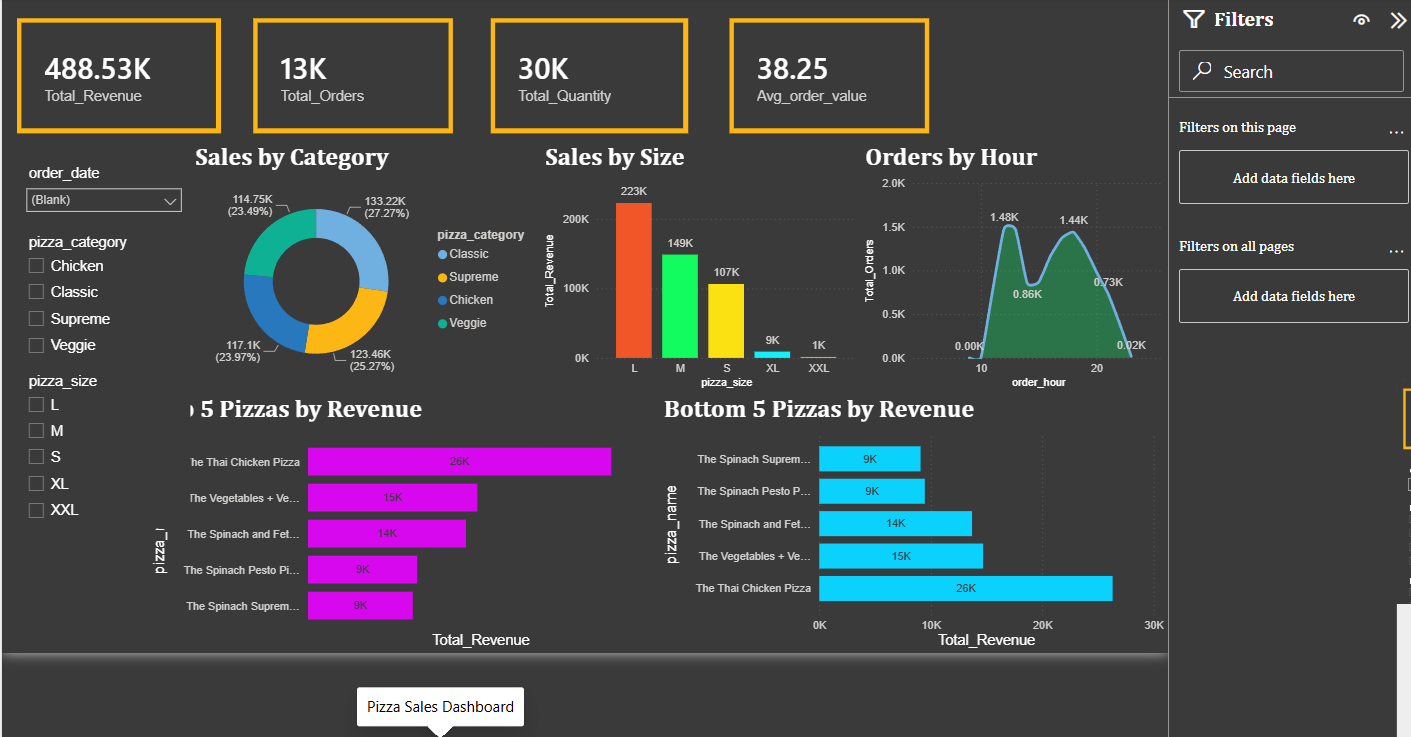

What the dashboard file says about the page in this screenshot:
{"tool":"powerbi","page":{"name":"Pizza Sales Dashboard","canvas":[1280,720],"ordinal":1},"visuals":[{"type":"cardVisual","fields":{"Data":["Pizza Sales Dataset  02.Total_Revenue"]},"box":[16.5,23.3,223.7,126.2],"z":0},{"type":"cardVisual","fields":{"Data":["Pizza Sales Dataset  02.Total_Orders"]},"box":[275.8,23.3,219.6,126.2],"z":1000},{"type":"cardVisual","fields":{"Data":["Pizza Sales Dataset  02.Total_Quantity"]},"box":[536.5,23.3,216.8,126.2],"z":2000},{"type":"cardVisual","fields":{"Data":["Pizza Sales Dataset  02.Avg_order_value"]},"box":[798.6,23.3,219.6,126.2],"z":3000},{"type":"donutChart","title":"Sales by Category","fields":{"Category":["Pizza Sales Dataset  02.pizza_category"],"Y":["Pizza Sales Dataset  02.Total_Revenue"]},"box":[206.7,159.6,387.7,275.1],"z":4000},{"type":"clusteredColumnChart","title":"Sales by Size","fields":{"Category":["Pizza Sales Dataset  02.pizza_size"],"Y":["Pizza Sales Dataset  02.Total_Revenue"]},"box":[591.4,159.2,351.3,275.8],"z":5000},{"type":"clusteredBarChart","title":"Top 5 Pizzas by Revenue","fields":{"Category":["Pizza Sales Dataset  02.pizza_name"],"Y":["Pizza Sales Dataset  02.Total_Revenue"]},"box":[161.1,434.7,560.2,285.1],"z":6000},{"type":"clusteredBarChart","title":"Bottom 5 Pizzas by Revenue","fields":{"Category":["Pizza Sales Dataset  02.pizza_name"],"Y":["Pizza Sales Dataset  02.Total_Revenue"]},"box":[721.2,434.7,558.8,285.1],"z":7000},{"type":"areaChart","title":"Orders by Hour","fields":{"Category":["Pizza Sales Dataset  02.order_hour"],"Y":["Pizza Sales Dataset  02.Total_Orders"]},"box":[942.7,159.2,337.6,275.8],"z":8000},{"type":"slicer","fields":{"Values":["Pizza Sales Dataset  02.order_date"]},"box":[16.5,179.8,190.7,75.5],"z":9000},{"type":"slicer","fields":{"Values":["Pizza Sales Dataset  02.pizza_category"]},"box":[16.5,255.2,190.7,152.3],"z":10000},{"type":"slicer","fields":{"Values":["Pizza Sales Dataset  02.pizza_size"]},"box":[16.5,407.5,190.7,175.6],"z":11000}]}

Visuals, with their boxes on the page's 1280x720 design canvas (x1, y1, x2, y2). These are canvas units, not pixel positions in the 1411x737 screenshot, which may show the page scaled, cropped or inside an application window:
cardVisual - Pizza Sales Dataset  02.Total_Revenue: x1=16 y1=23 x2=240 y2=150
cardVisual - Pizza Sales Dataset  02.Total_Orders: x1=276 y1=23 x2=495 y2=150
cardVisual - Pizza Sales Dataset  02.Total_Quantity: x1=536 y1=23 x2=753 y2=150
cardVisual - Pizza Sales Dataset  02.Avg_order_value: x1=799 y1=23 x2=1018 y2=150
"Sales by Category" donutChart: x1=207 y1=160 x2=594 y2=435
"Sales by Size" clusteredColumnChart: x1=591 y1=159 x2=943 y2=435
"Top 5 Pizzas by Revenue" clusteredBarChart: x1=161 y1=435 x2=721 y2=720
"Bottom 5 Pizzas by Revenue" clusteredBarChart: x1=721 y1=435 x2=1280 y2=720
"Orders by Hour" areaChart: x1=943 y1=159 x2=1280 y2=435
slicer - Pizza Sales Dataset  02.order_date: x1=16 y1=180 x2=207 y2=255
slicer - Pizza Sales Dataset  02.pizza_category: x1=16 y1=255 x2=207 y2=408
slicer - Pizza Sales Dataset  02.pizza_size: x1=16 y1=408 x2=207 y2=583
